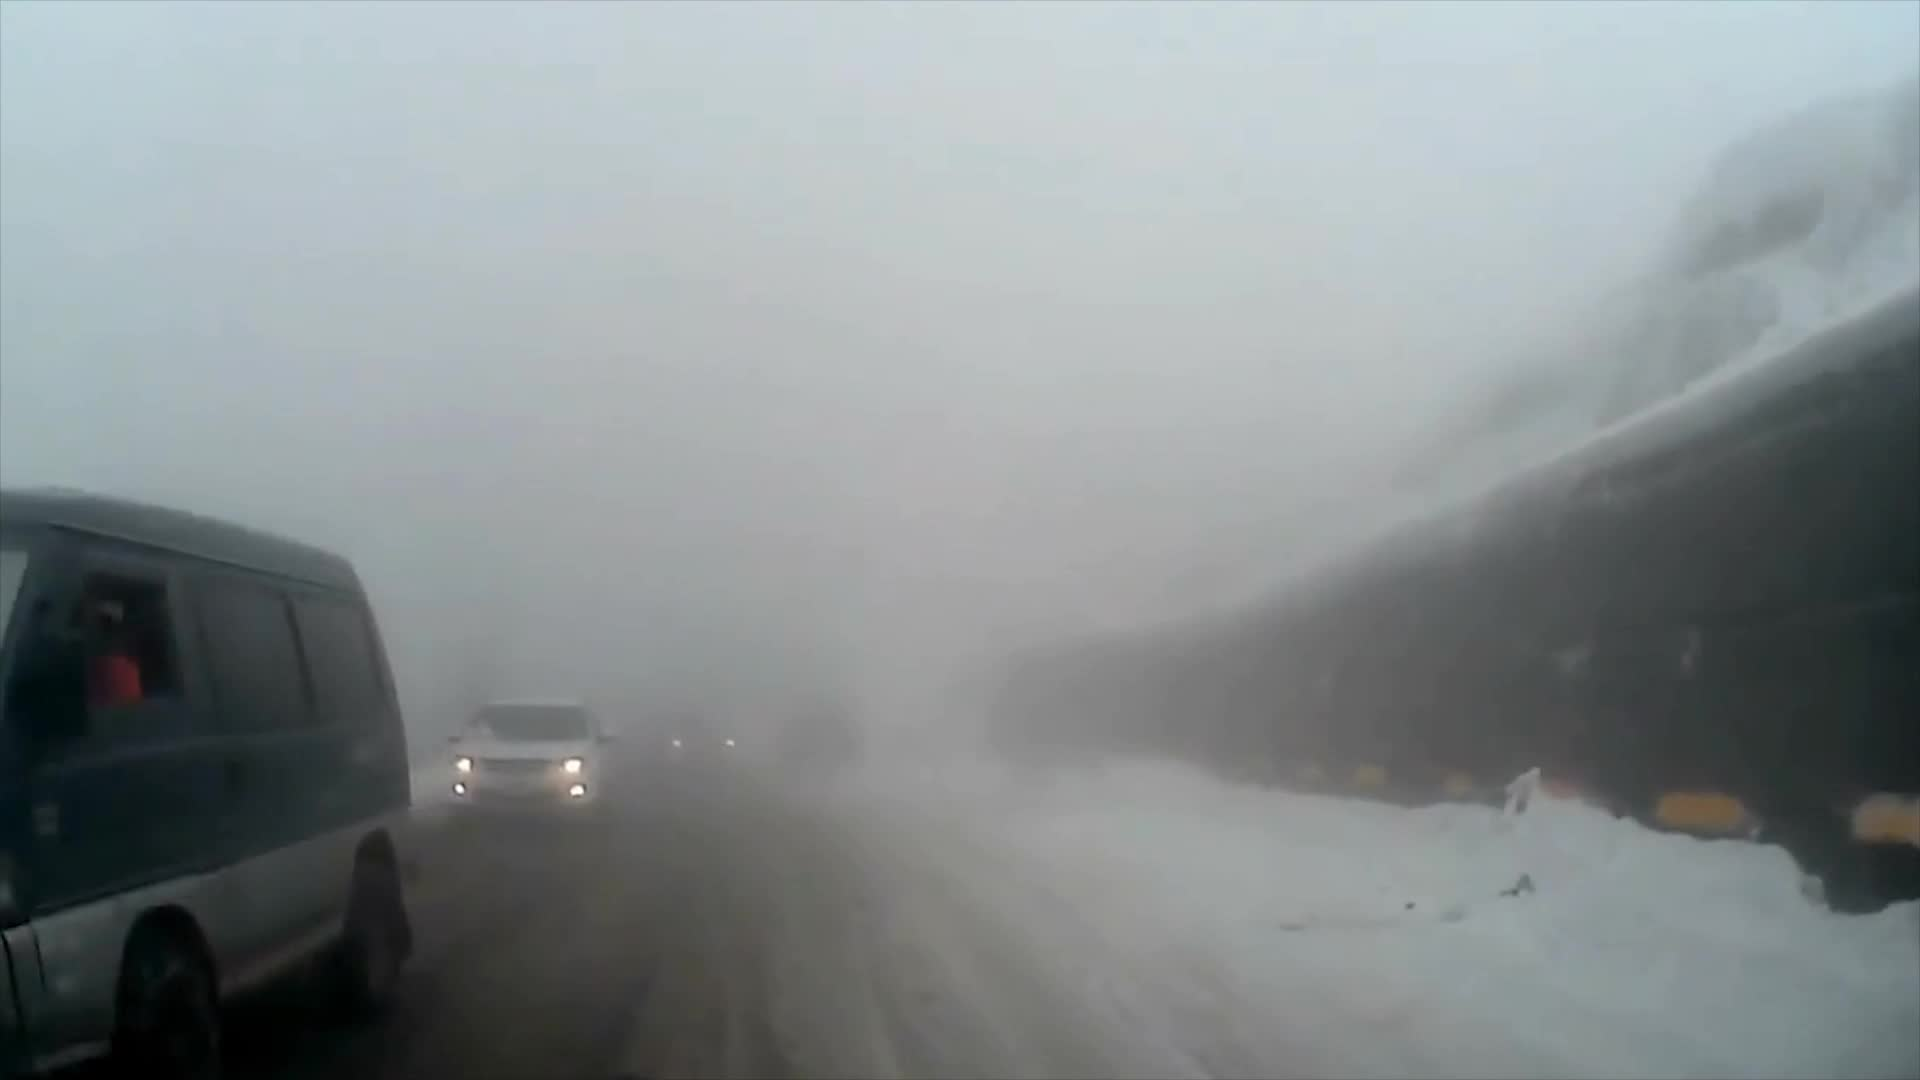vehicle: (0, 483, 419, 1080), (440, 695, 617, 832)
